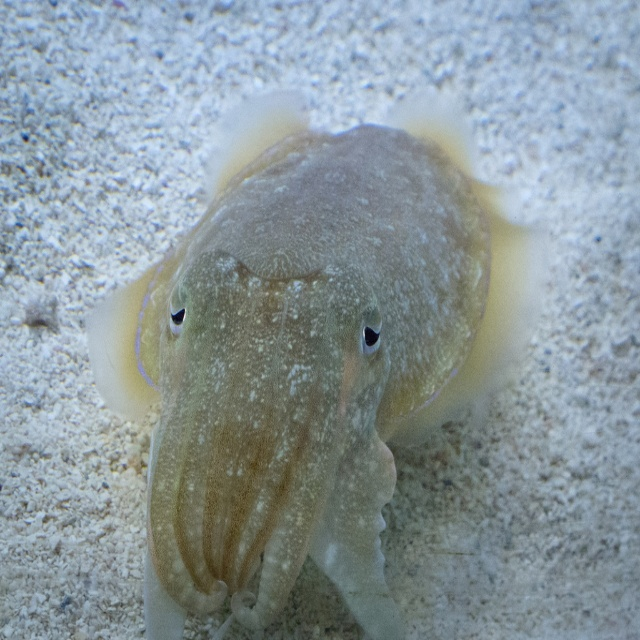Fish: (83, 88, 548, 640)
